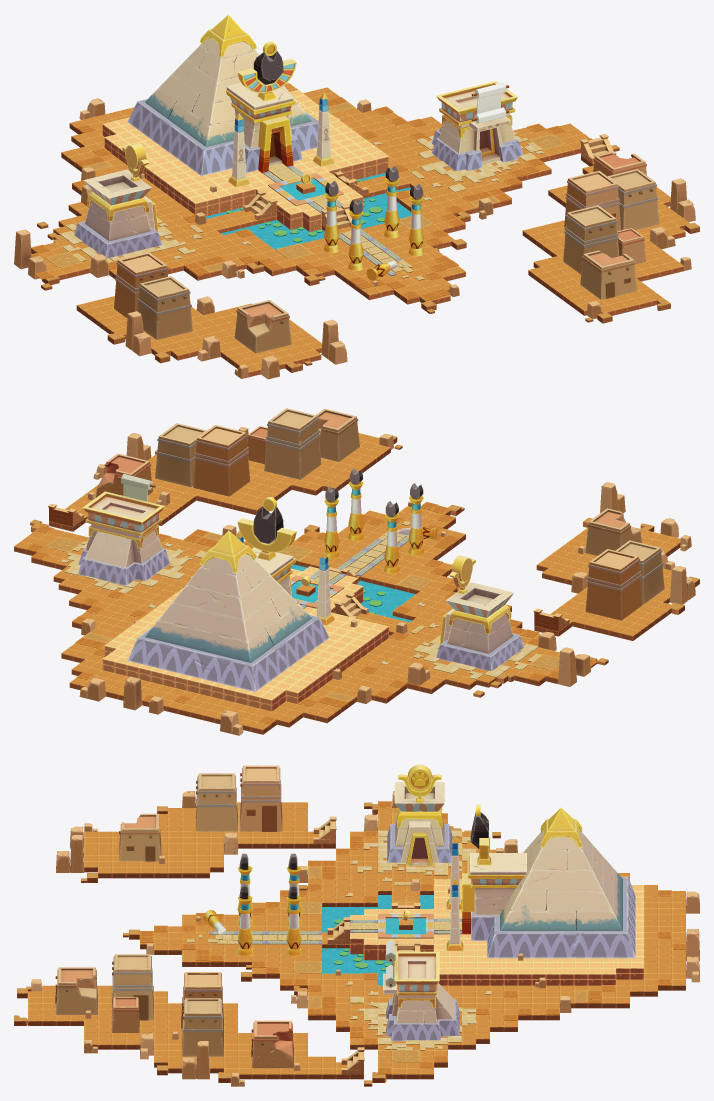
3 views of the same model, one above another, from view 1: azimuth 30°, elevation 25°; view 2: azimuth 150°, elevation 25°; view 3: azimuth 270°, elevation 25° (orthographic).
Visible parts, largest first — view 1: nen1, Nha_Meo, NhaPhu1, O_Nen_L1, O1, Da1, Nha_Sach, Nha_Tien, Tru1, Water, CauThanh1, GachDai1 (+2 smaller); view 2: nen1, Nha_Meo, NhaPhu1, O_Nen_L1, O1, Da1, Nha_Sach, Nha_Tien, Tru1, CauThanh1, Water, GachDai1; view 3: nen1, Nha_Meo, NhaPhu1, O_Nen_L1, O1, Da1, Nha_Sach, Nha_Tien, Tru1, Water, CauThanh1, GachDai1 (+1 smaller).
Part boxes in pixels (x1,y1,x2,y2): nen1: [31, 83, 690, 377]; Nha_Meo: [127, 14, 318, 175]; NhaPhu1: [114, 152, 659, 353]; O_Nen_L1: [31, 97, 592, 300]; O1: [102, 90, 388, 231]; Da1: [14, 98, 699, 379]; Nha_Sach: [431, 81, 523, 171]; Nha_Tien: [74, 143, 161, 258]; Tru1: [228, 92, 424, 280]; Water: [206, 173, 411, 249]; CauThanh1: [243, 134, 616, 228]; GachDai1: [263, 165, 401, 275]; nen1: [14, 433, 680, 734]; Nha_Meo: [127, 497, 329, 691]; NhaPhu1: [96, 408, 664, 620]; O_Nen_L1: [26, 502, 597, 724]; O1: [102, 566, 388, 711]; Da1: [30, 427, 699, 735]; Nha_Sach: [78, 474, 170, 585]; Nha_Tien: [436, 555, 524, 670]; Tru1: [235, 468, 437, 625]; CauThanh1: [48, 503, 569, 631]; Water: [291, 564, 415, 636]; GachDai1: [300, 536, 409, 608]; nen1: [28, 802, 685, 1079]; Nha_Meo: [462, 804, 635, 958]; NhaPhu1: [55, 765, 293, 1068]; O_Nen_L1: [140, 801, 686, 1074]; O1: [350, 879, 643, 985]; Da1: [14, 775, 699, 1086]; Nha_Sach: [383, 940, 459, 1041]; Nha_Tien: [387, 764, 452, 866]; Tru1: [203, 836, 463, 956]; Water: [322, 895, 433, 985]; CauThanh1: [313, 816, 420, 1074]; GachDai1: [210, 918, 461, 944].
Bounding box in the file's own units: 29.65 × 6.74 × 30.38.
Materials: 11 (11 with a texture image).
